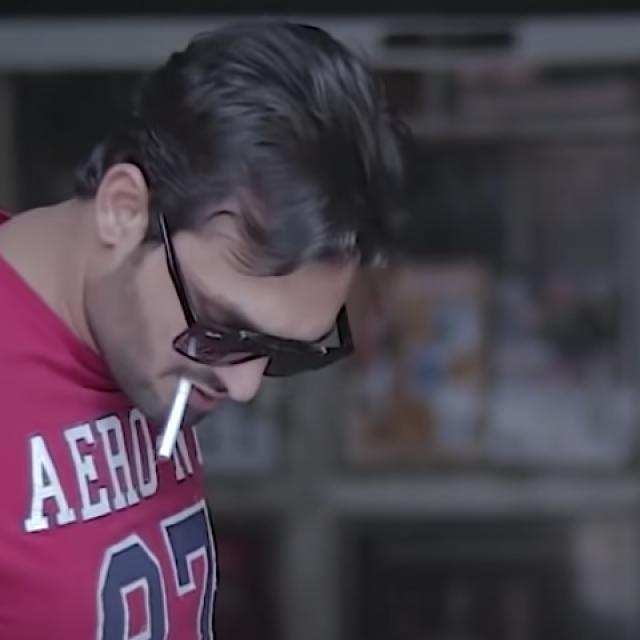smoke: (150, 368, 217, 478)
